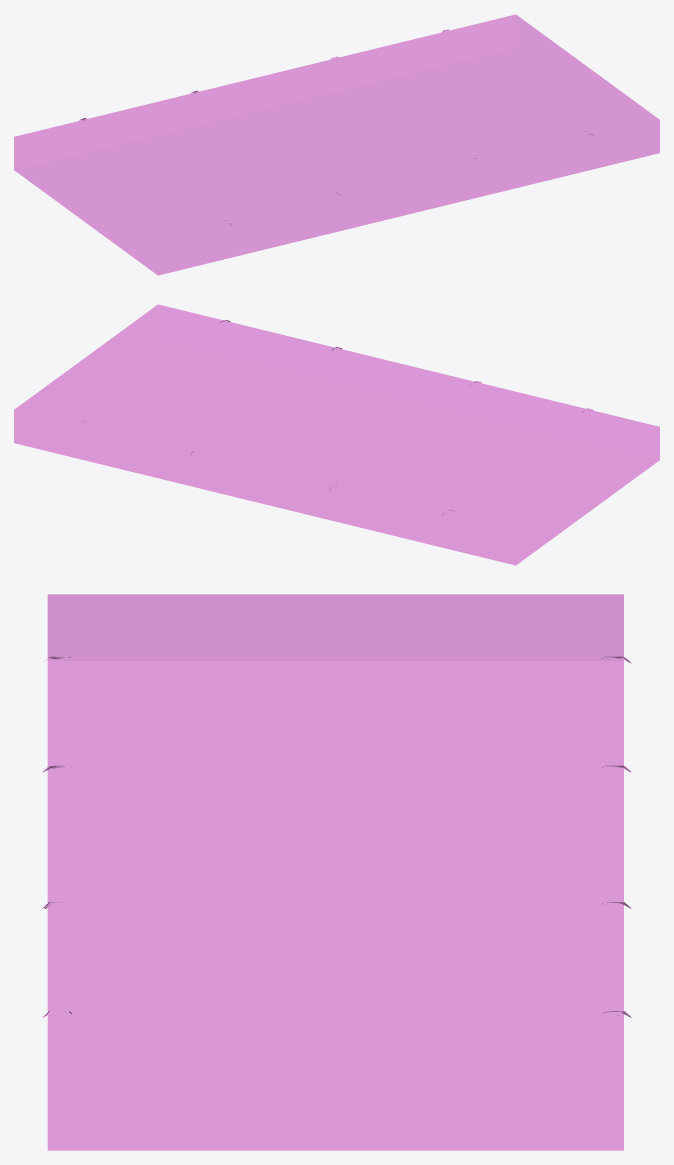
Rendered from arccorp_landingpad_floor_4x8_a_lod1.glb.
The picture shows the model from 3 angles, top to bottom: view 1: azimuth 30°, elevation 25°; view 2: azimuth 150°, elevation 25°; view 3: azimuth 270°, elevation 25°; orthographic projection. The views are drawn at different scales.
Size of the model in its own units: 8 by 0.5288 by 4.07.
